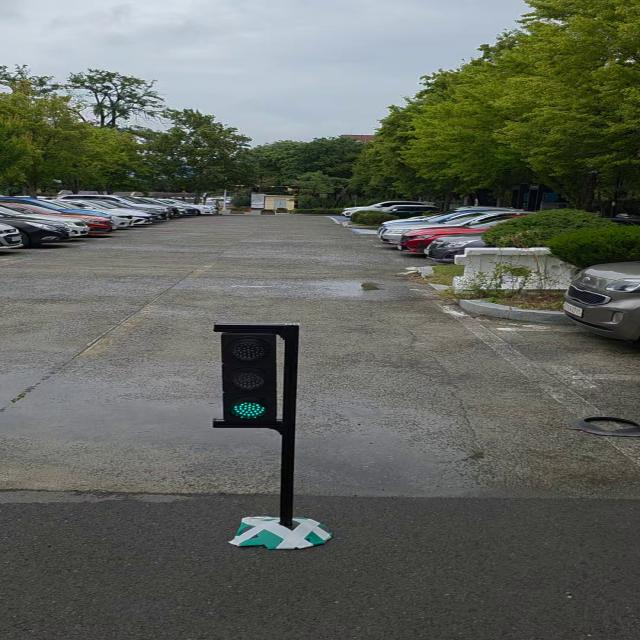green: (221, 328, 292, 431)
